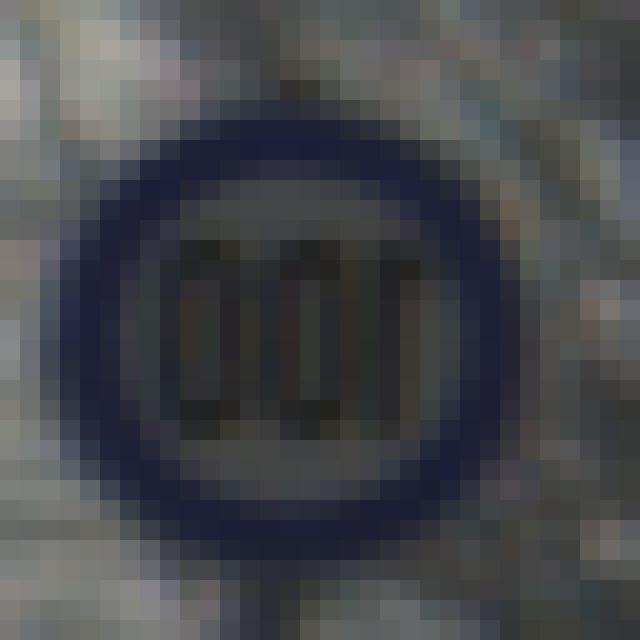SPEED LIMIT 100: (57, 117, 526, 558)
